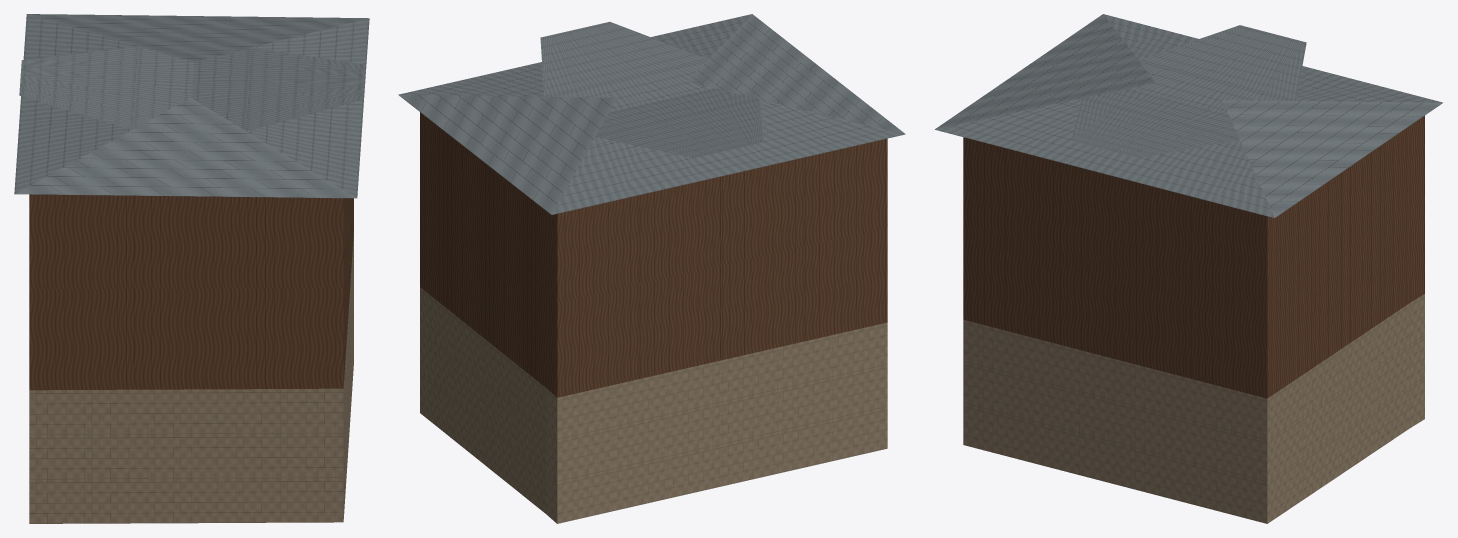
Rendered from bld_c8_37_504.gltf.
3 renders of one model, left to right at view 1: azimuth 30°, elevation 25°; view 2: azimuth 150°, elevation 25°; view 3: azimuth 270°, elevation 25°, orthographic. The views are drawn at different scales.
Visible parts, largest first — view 1: bld_c8_37_504; view 2: bld_c8_37_504; view 3: bld_c8_37_504.
Boxes of the visible parts, x1,y1,x2,y2 form: bld_c8_37_504: [14, 14, 369, 523]; bld_c8_37_504: [398, 14, 905, 523]; bld_c8_37_504: [935, 14, 1442, 523].
Size of the model in its own units: 17.83 by 13.8 by 18.78.
3 materials, 3 textured.
